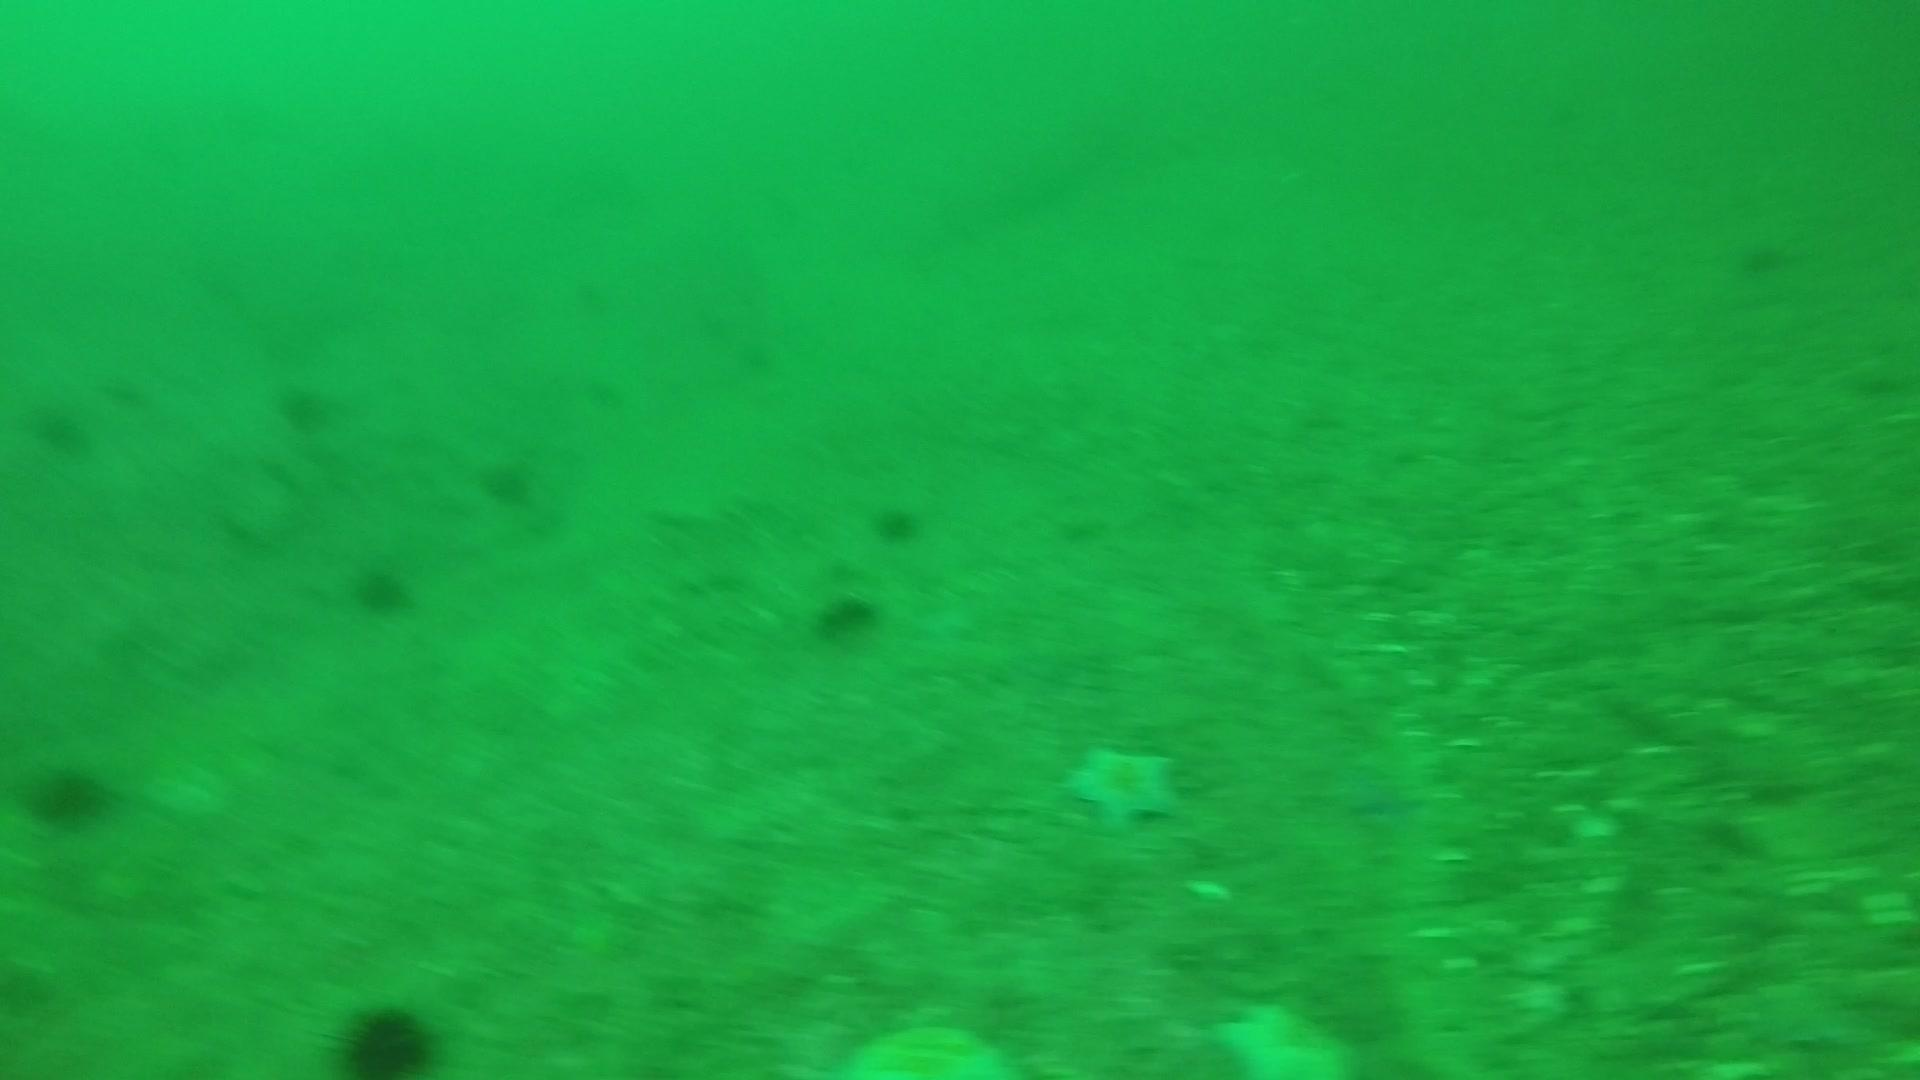echinus: (330, 997, 440, 1073), (22, 756, 115, 832), (25, 393, 96, 460), (347, 556, 418, 620), (811, 587, 884, 647), (272, 376, 340, 436), (475, 450, 541, 510), (1731, 229, 1795, 282), (866, 496, 926, 549), (100, 375, 161, 421)
starfish: (1208, 992, 1356, 1077), (1060, 736, 1185, 835), (833, 1015, 996, 1080)
